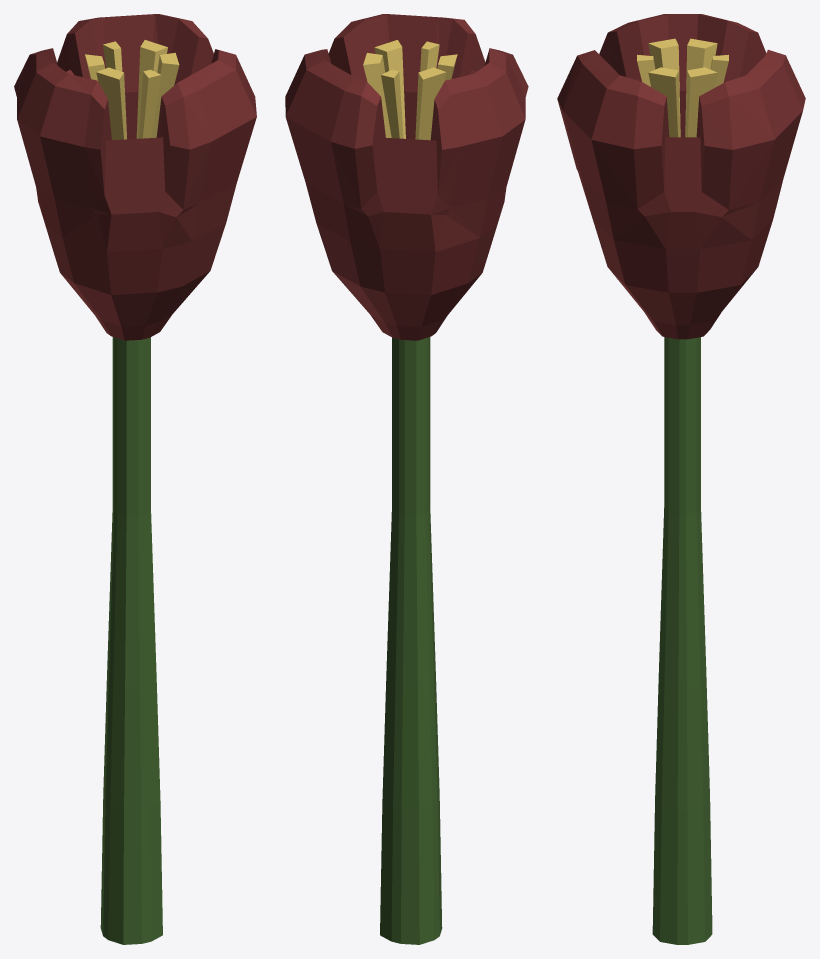
File: Flower1.fbx
3 renders of one model, left to right at view 1: azimuth 30°, elevation 25°; view 2: azimuth 150°, elevation 25°; view 3: azimuth 270°, elevation 25°, orthographic.
Visible parts, largest first — view 1: Flower1; view 2: Flower1; view 3: Flower1.
Part boxes in pixels (box(x1,y1,x2,y2)): Flower1: box(14, 14, 256, 944); Flower1: box(285, 14, 528, 944); Flower1: box(557, 14, 805, 944).
Size of the model in its own units: 37.51 by 155 by 39.48.
